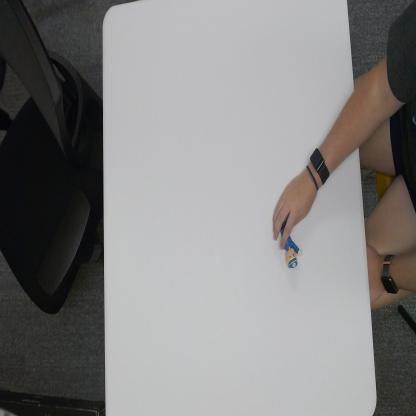Hand: (271, 169, 315, 248)
